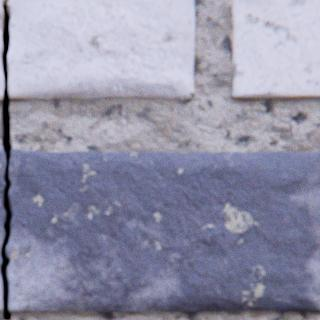brick: (231, 0, 319, 99)
broken_brick: (6, 150, 319, 312), (7, 0, 193, 101), (0, 151, 6, 252), (0, 0, 4, 100), (0, 276, 2, 311)
crack: (0, 0, 12, 319)
